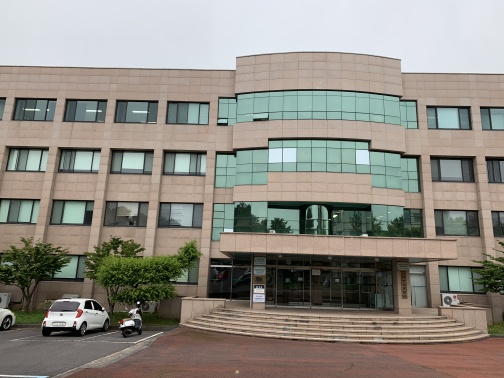Joint Experimental Labs: (1, 52, 503, 313), (192, 39, 479, 348)
